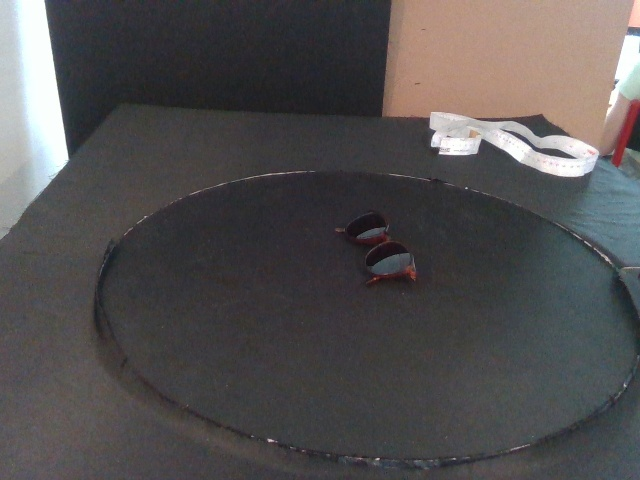glasses: (333, 208, 419, 287)
